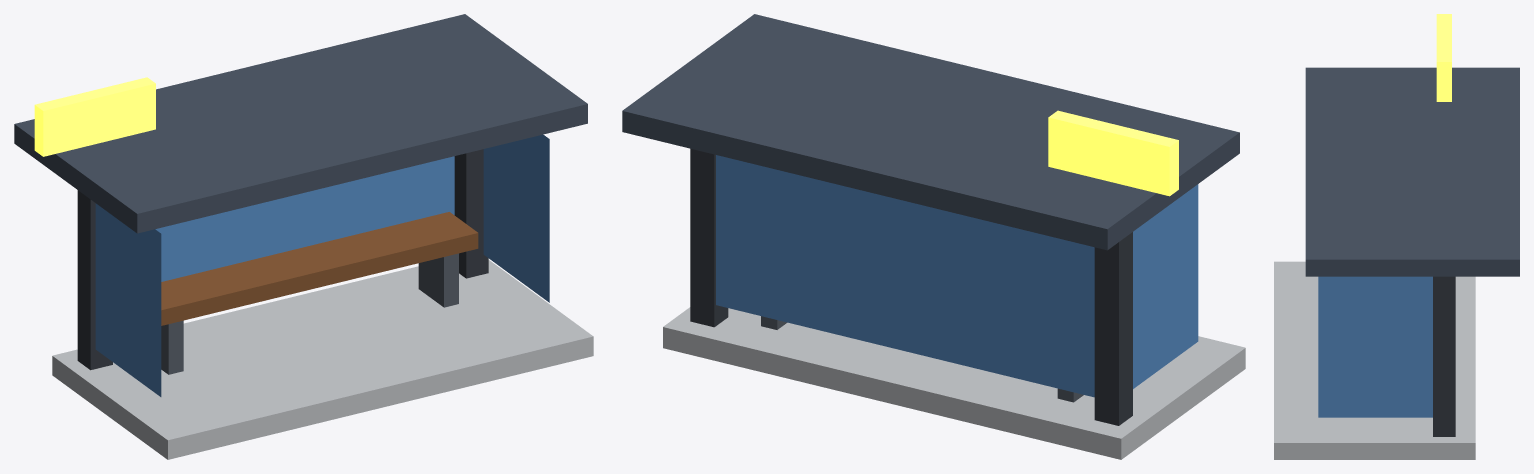
Rendered from bus_shelter.glb.
3 views of the same model, side by side, from view 1: azimuth 30°, elevation 25°; view 2: azimuth 150°, elevation 25°; view 3: azimuth 270°, elevation 25° (orthographic). The views are drawn at different scales.
Visible parts, largest first — view 1: bus_shelter; view 2: bus_shelter; view 3: bus_shelter.
Boxes of the visible parts, x1=… form: bus_shelter: x1=14, y1=14, x2=593, y2=459; bus_shelter: x1=622, y1=14, x2=1245, y2=459; bus_shelter: x1=1274, y1=14, x2=1519, y2=459.
Bounding box in the file's own units: 0.375 × 0.22 × 0.195.
